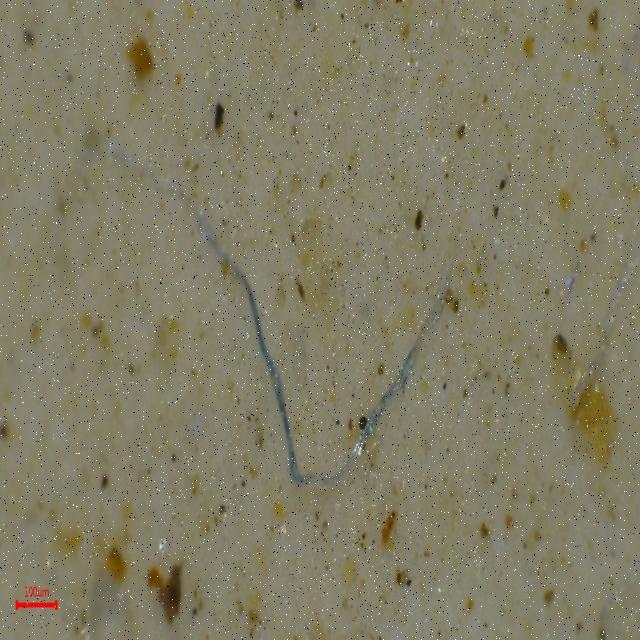Fibre: (108, 146, 478, 494)
